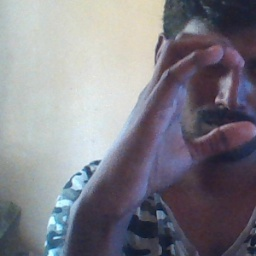C: (159, 27, 256, 172)
